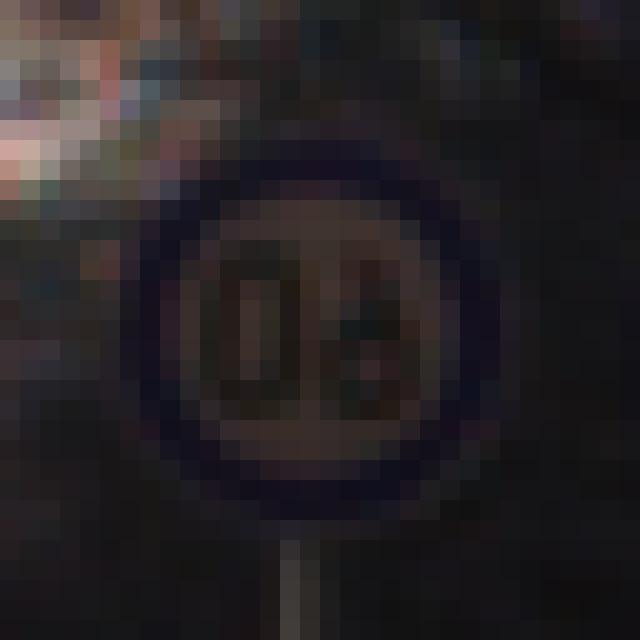SPEED-LIMIT-60: (148, 148, 492, 510)
